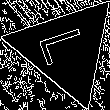L_E: (36, 26, 96, 72)
